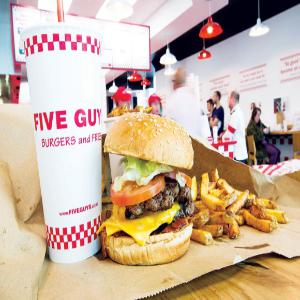cheeseburger: (108, 107, 195, 265)
fries: (197, 165, 288, 249)
